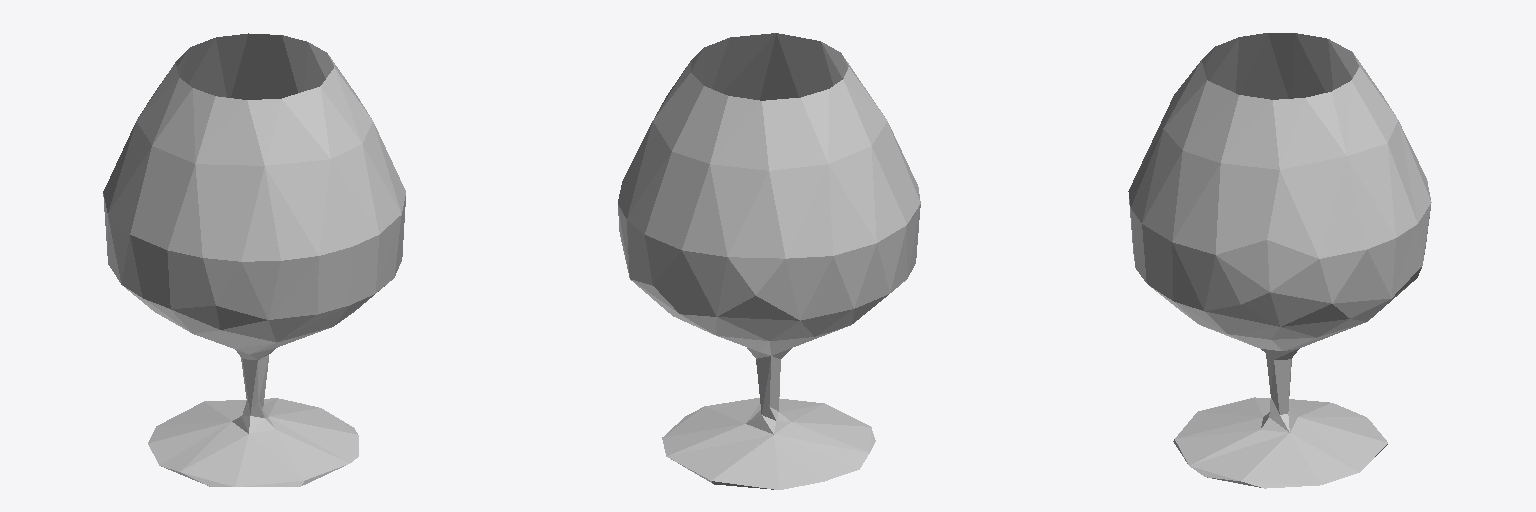
File: cognacglass-LUMPY.obj
3 renders of one model, left to right at view 1: azimuth 30°, elevation 25°; view 2: azimuth 150°, elevation 25°; view 3: azimuth 270°, elevation 25°, orthographic.
Visible parts, largest first — view 1: Mesh_CongacGlass; view 2: Mesh_CongacGlass; view 3: Mesh_CongacGlass.
Part boxes in pixels (left/top/right/bottom): Mesh_CongacGlass: left=103, top=33, right=405, bottom=486; Mesh_CongacGlass: left=618, top=33, right=920, bottom=489; Mesh_CongacGlass: left=1128, top=33, right=1431, bottom=488.
Bounding box in the file's own units: 7.11 × 9.72 × 7.04.